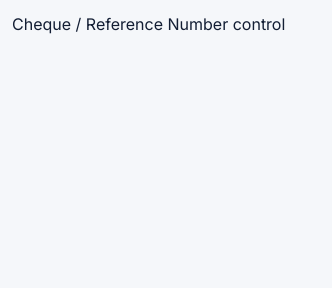
it: LockedTip accessibility — ARIA tooltip pattern for every LOCKED_FIELD › [{"field":"Cheque / Reference Number","note":"Reference data is frozen so you don't tweak it while the same invariant-violating row is sitting in the form."}] f
This screenshot has width=332, height=288.
// Keyboard focus opens the tooltip (no pointer events needed).
Focus the element showing "Cheque / Reference Number control" at (149, 24), box [12, 12, 285, 36]
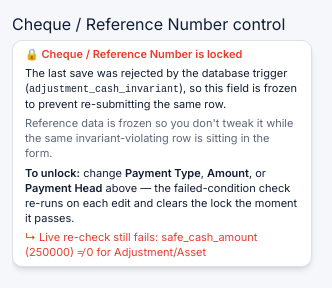
Result: the text "adjustment_cash_invariant" is shown at [29, 84, 179, 95]
Result: the text "Reference data is frozen so you don't tweak it while the same invariant-violating row is sitting in the form." is shown at [25, 116, 293, 160]
Result: the text "To unlock:" is shown at [25, 166, 80, 180]
// Blurring the trigger dismisses the tooltip (Radix default).
Leave the element showing "Cheque / Reference Number control", box [12, 12, 285, 36]
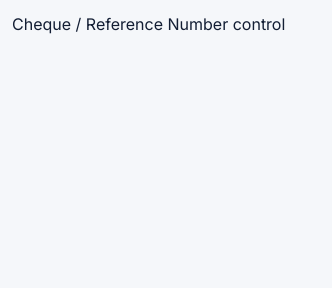
Result: the tooltip "🔒 Cheque / Reference Number is locked The last save was rejected by the databas" is gone
Focus the element showing "Cheque / Reference Number control" at (149, 24), box [12, 12, 285, 36]
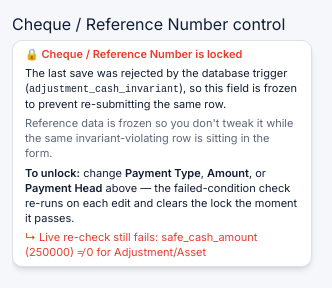
Result: the tooltip is shown
Press Escape in the element showing "Cheque / Reference Number control", box [12, 12, 285, 36]
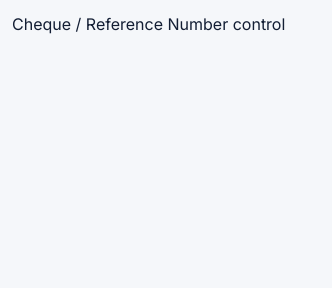
Result: the tooltip "🔒 Cheque / Reference Number is locked The last save was rejected by the databas" is gone
